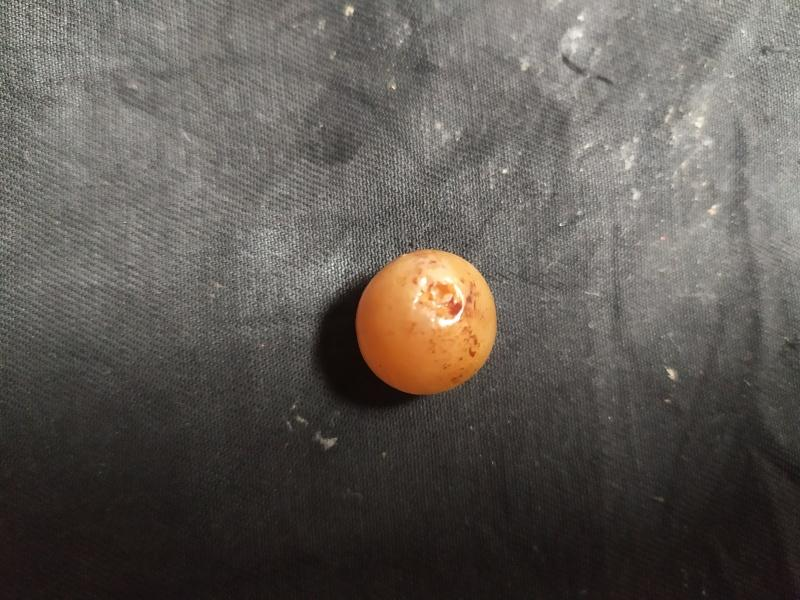Grape Rotten: (354, 246, 498, 399)
